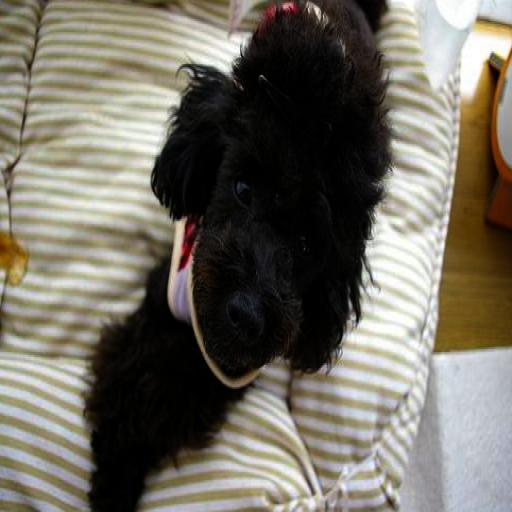dog_face: (176, 60, 353, 358)
